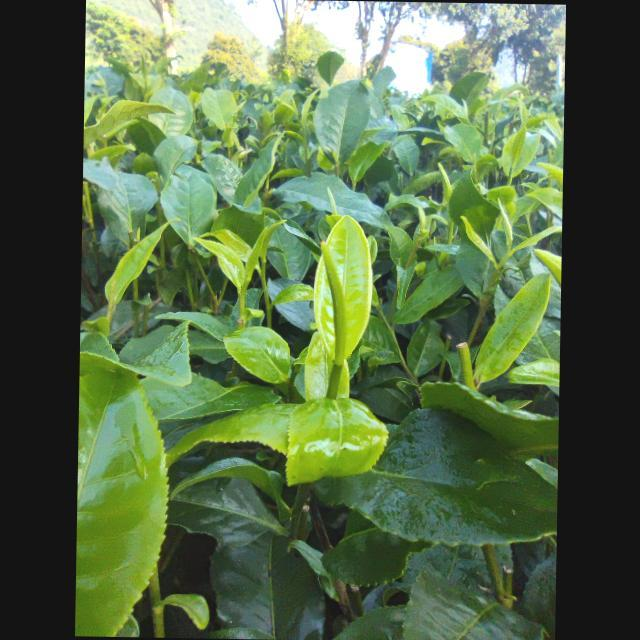Stem: (238, 294, 245, 311), (260, 274, 266, 288)
